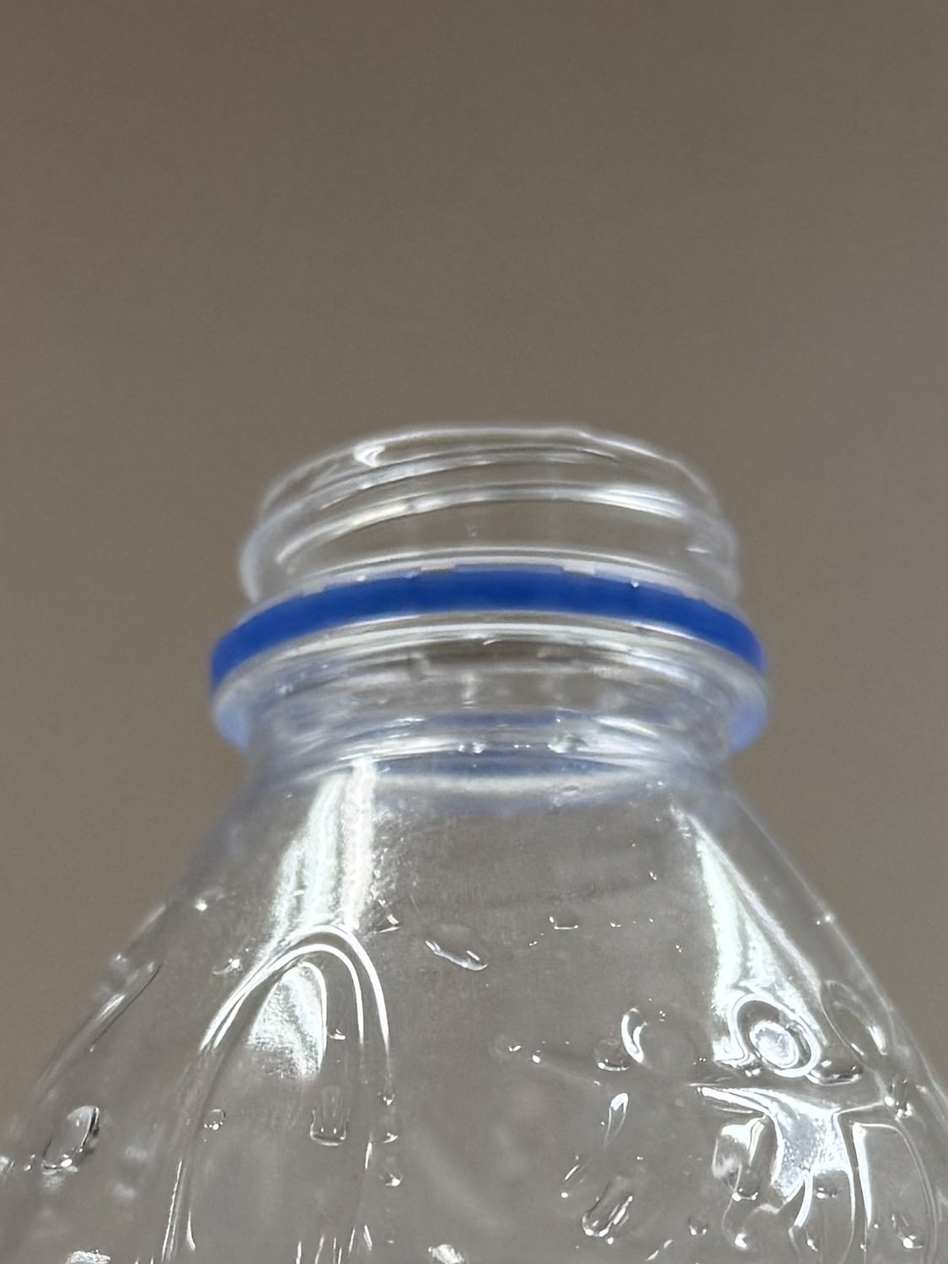no_cap: (202, 415, 776, 721)
